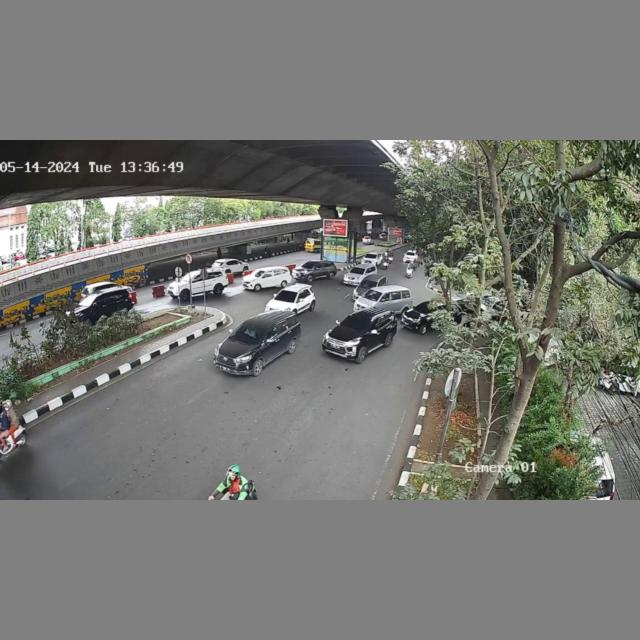windshield: (231, 324, 267, 345), (340, 315, 373, 330), (271, 288, 300, 304)
